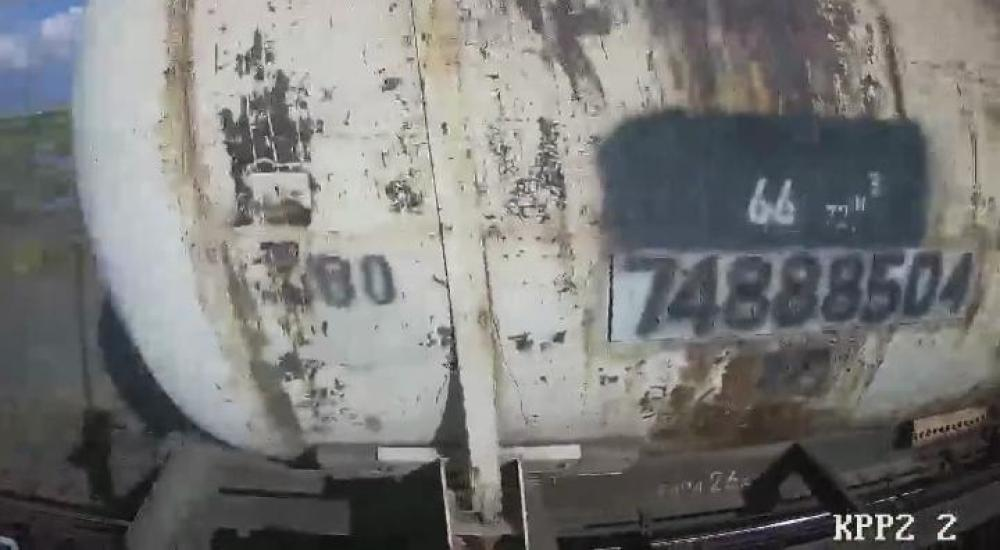Wagon-number: (615, 248, 979, 340)
